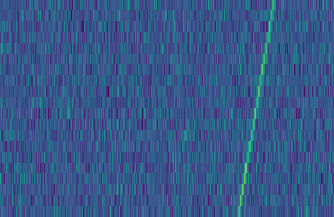signal: (235, 0, 281, 217)
